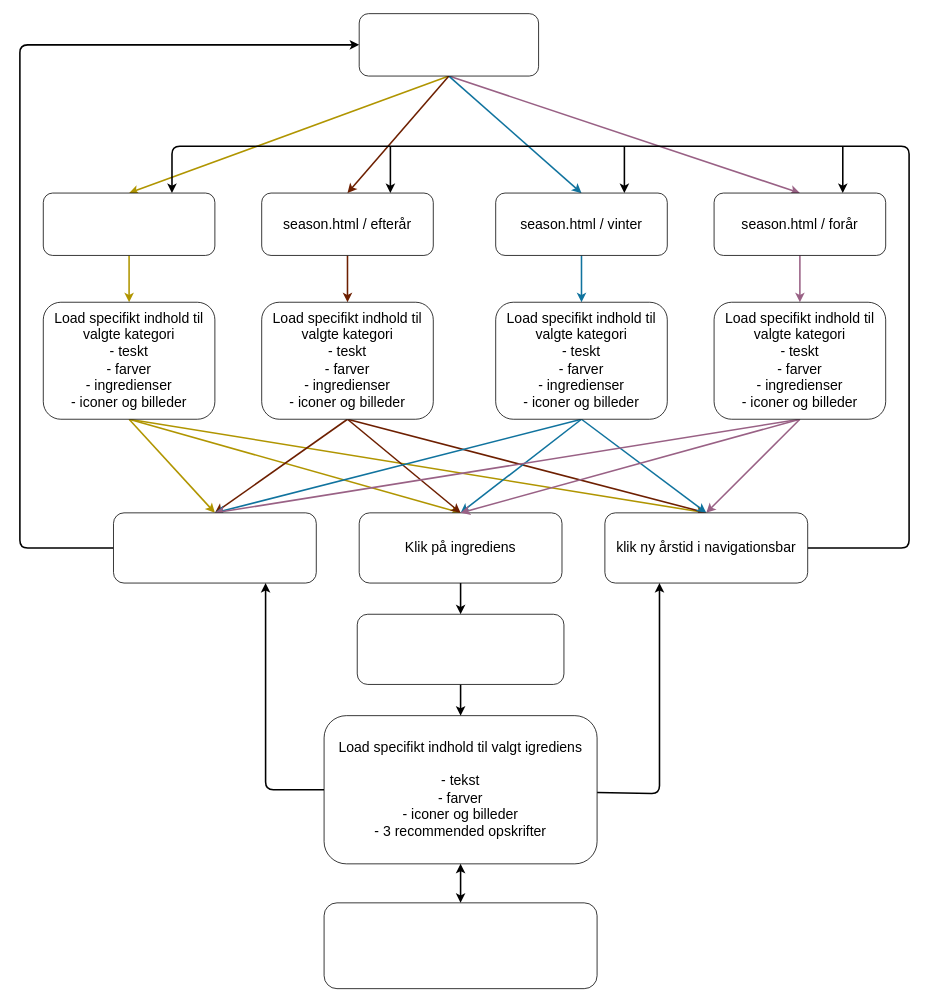
Image size: 929x1002. Some labels were removed from this diagram. Here are the shapes that lost their labels. From the top down, the centre of each, then its label:
At point (448, 44): "Index / kategori / home".
At point (129, 223): "season.html / sommer".
At point (214, 547): "klik logo i navigationsbaren".
At point (460, 648): "ingrediens.html".
At point (460, 945): "klik en af de 3 opskrifter der åbner i ny fane".
